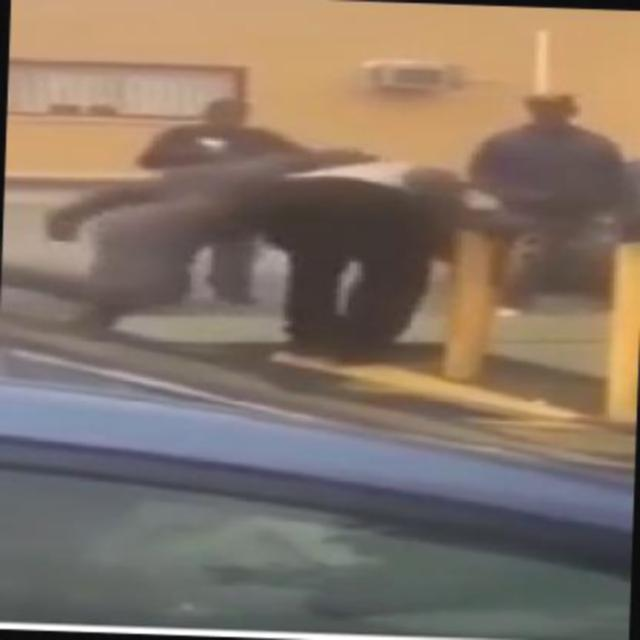fight: (46, 139, 511, 372)
non-fight: (468, 83, 638, 323)
